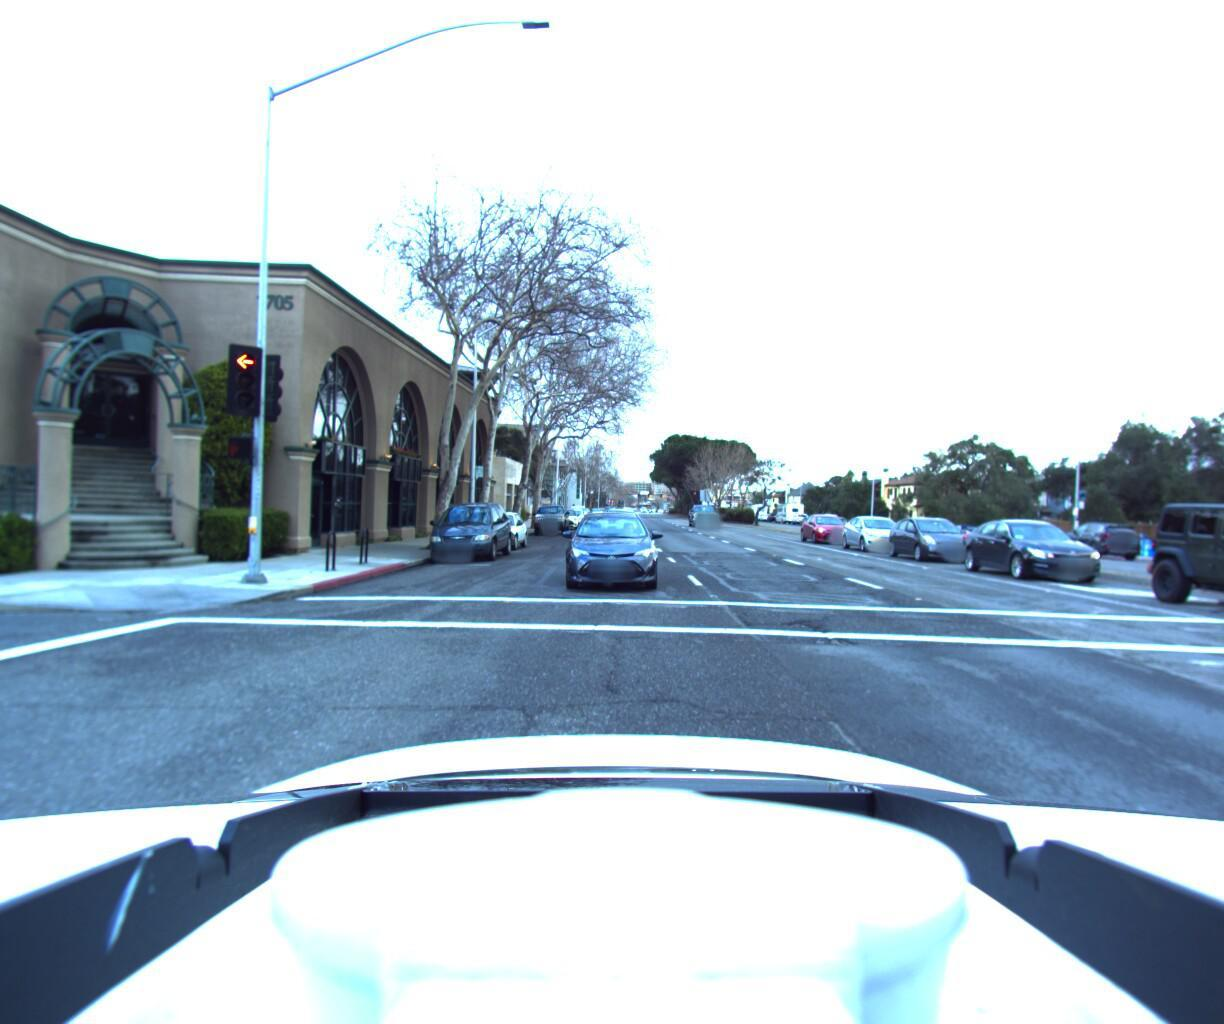car: (1126, 500, 1224, 638), (948, 518, 1113, 588), (560, 509, 656, 596), (428, 500, 513, 565), (879, 514, 979, 567), (1048, 516, 1142, 556), (836, 514, 911, 554), (468, 508, 534, 553), (795, 513, 862, 546), (529, 503, 571, 537), (557, 507, 588, 529), (551, 509, 579, 530)
